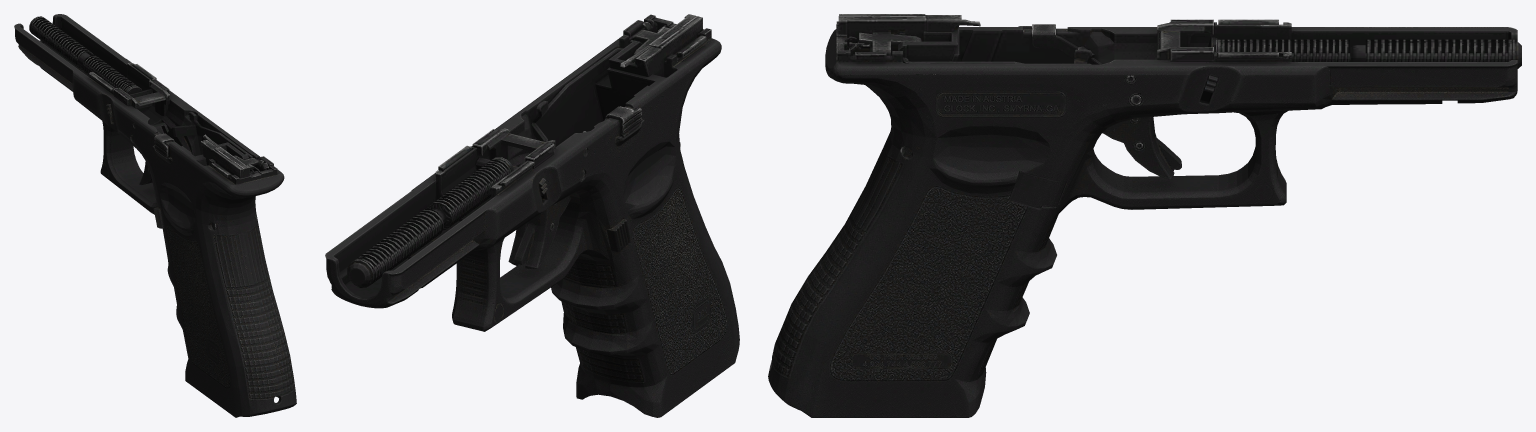
The picture shows the model from 3 angles, left to right: view 1: azimuth 30°, elevation 25°; view 2: azimuth 150°, elevation 25°; view 3: azimuth 270°, elevation 25°; orthographic projection. The views are drawn at different scales.
Parts seen in each view (by area): view 1: TW_5a7ae0c351dfba0017554310_PZ_Import; view 2: TW_5a7ae0c351dfba0017554310_PZ_Import; view 3: TW_5a7ae0c351dfba0017554310_PZ_Import.
Part boxes in pixels (left/top/right/bottom): TW_5a7ae0c351dfba0017554310_PZ_Import: left=14, top=14, right=296, bottom=417; TW_5a7ae0c351dfba0017554310_PZ_Import: left=325, top=14, right=739, bottom=417; TW_5a7ae0c351dfba0017554310_PZ_Import: left=768, top=14, right=1521, bottom=417.
Size of the model in its own units: 0.0179 by 0.117 by 0.0634.
1 material, 1 textured.
